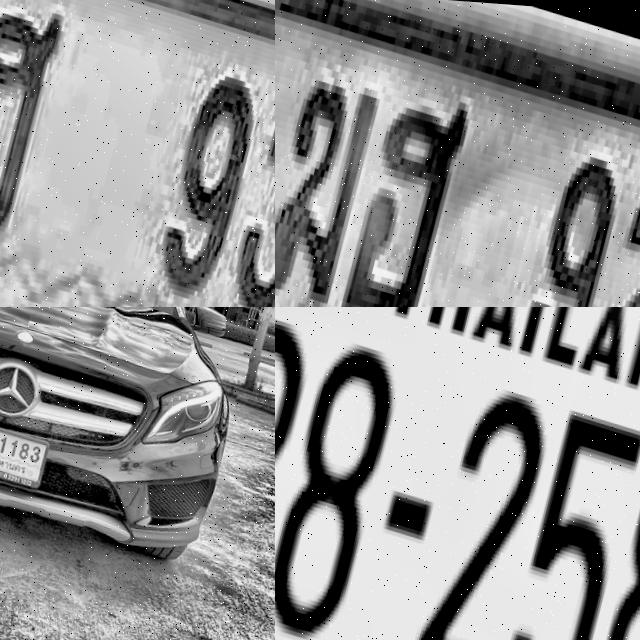license-plate: (275, 307, 640, 640), (275, 0, 640, 307), (0, 0, 275, 307), (0, 407, 55, 486)
